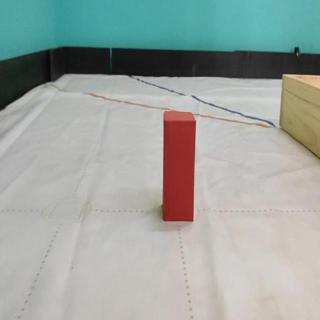redbox: (161, 109, 197, 223)
